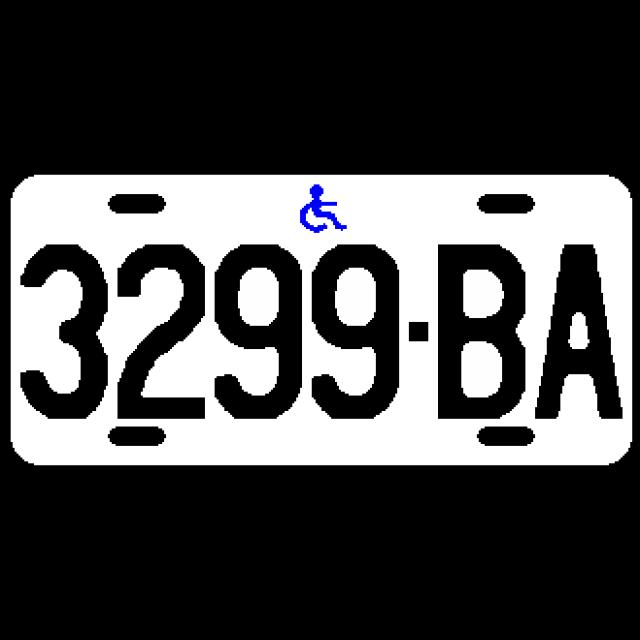plate: (9, 172, 635, 470)
